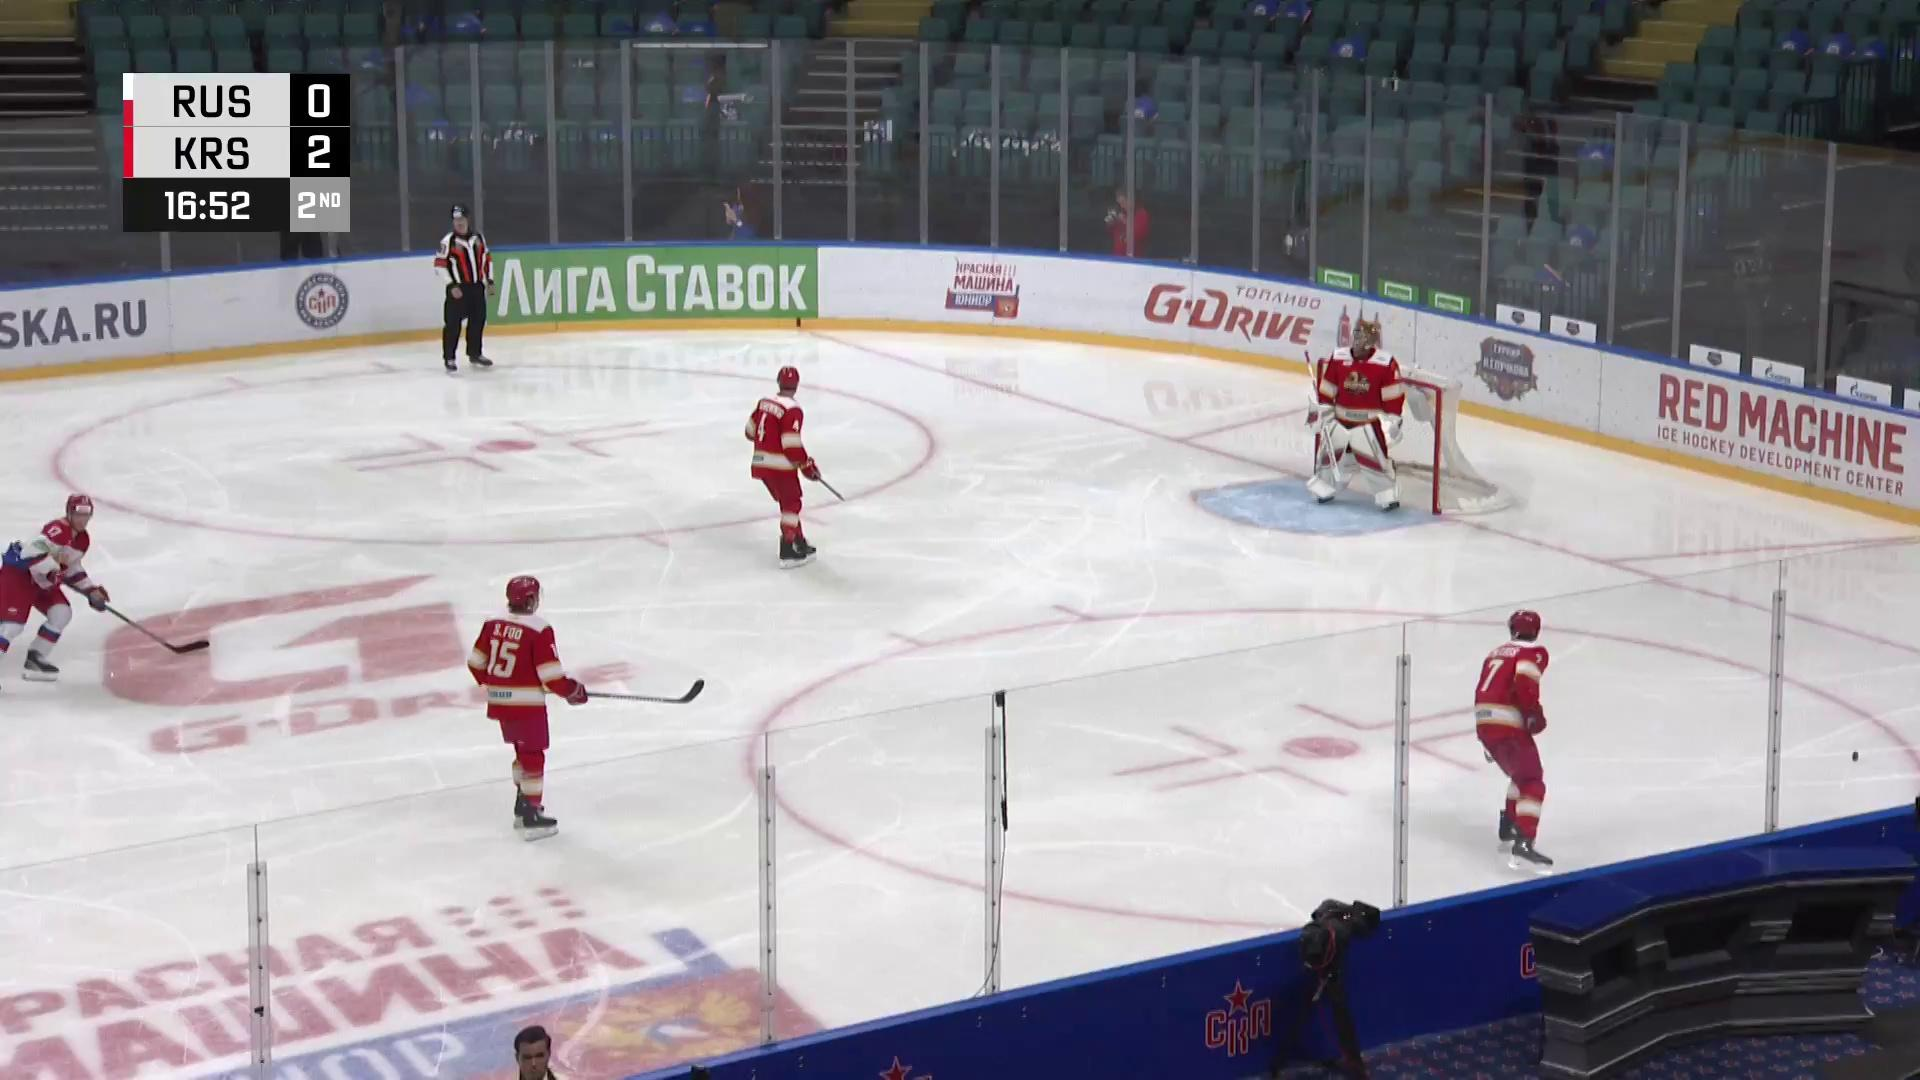ball: (1850, 748, 1861, 764)
